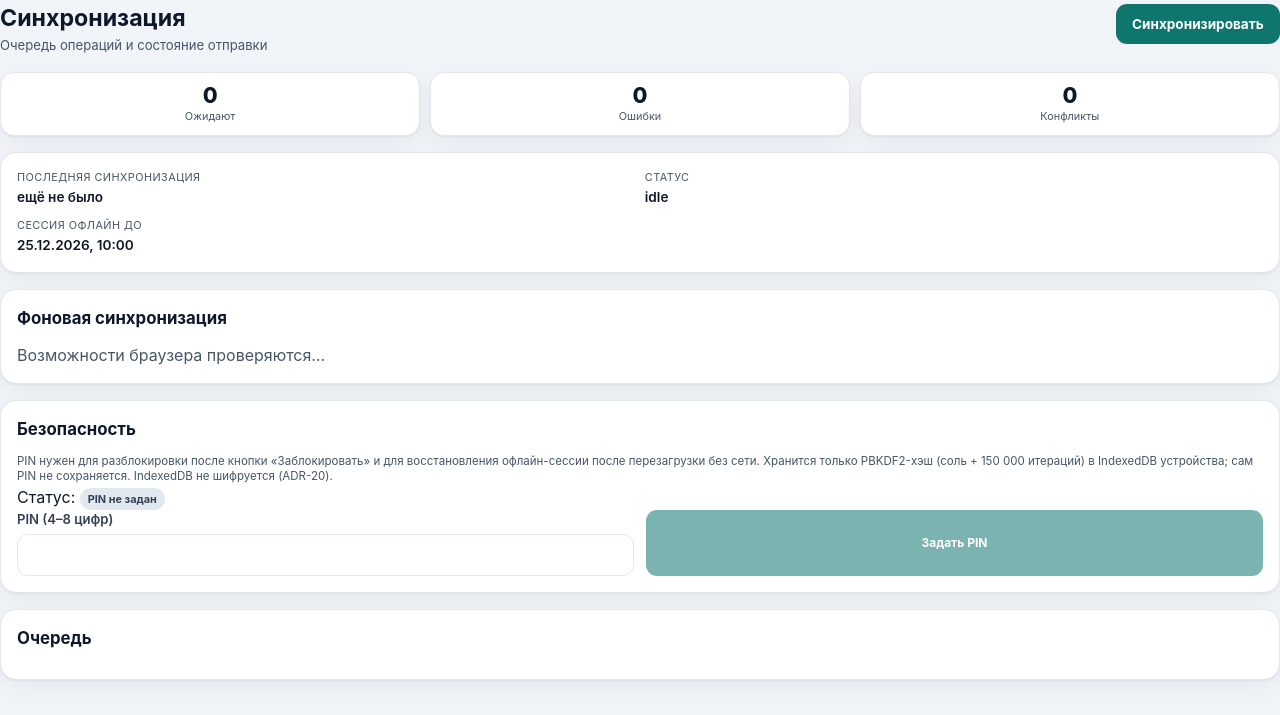
SyncScreen security card (AUTH-03) › sets and removes the local PIN without storing it in clear text
expect the heading "Безопасность" is shown: met, box top-left (17, 419), bottom-right (136, 439)
expect the text "PIN не задан" is shown: met, box top-left (80, 488), bottom-right (165, 510)
Type "2468" into the password field named "PIN для разблокировки" at (326, 555), box top-left (17, 534), bottom-right (634, 576)
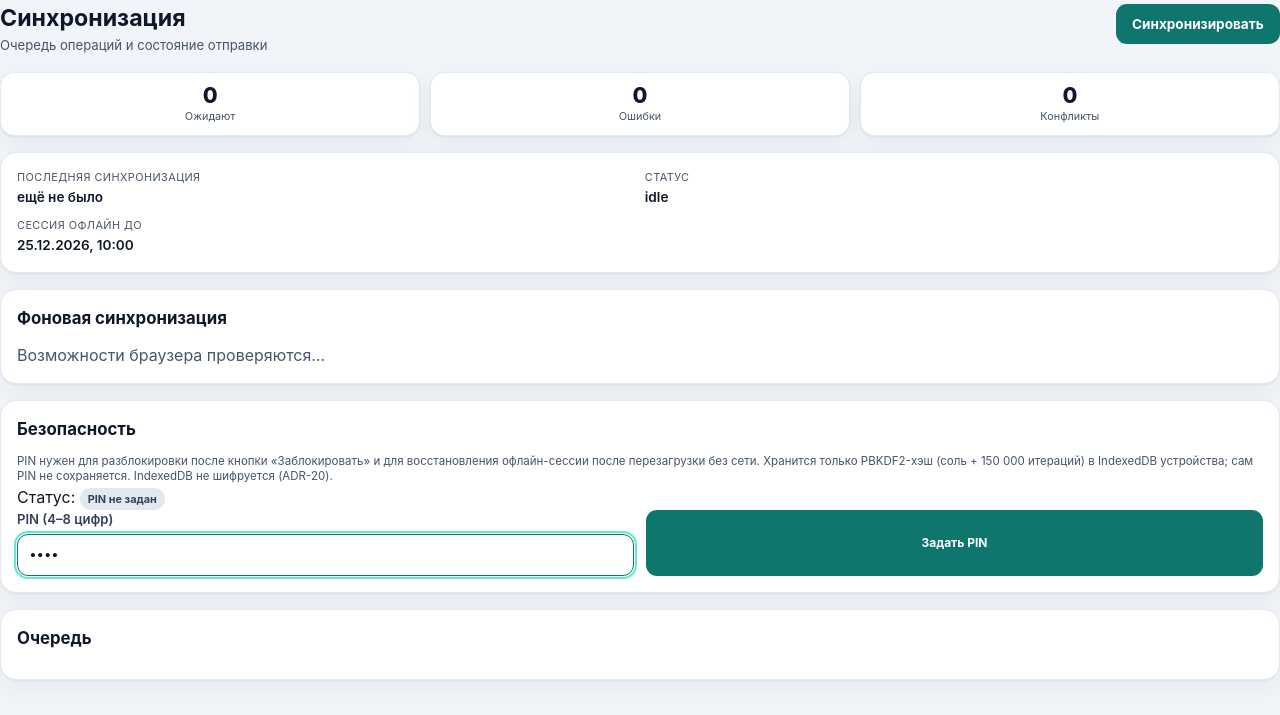
Click the button "Задать PIN" at (954, 543), box top-left (646, 510), bottom-right (1263, 576)
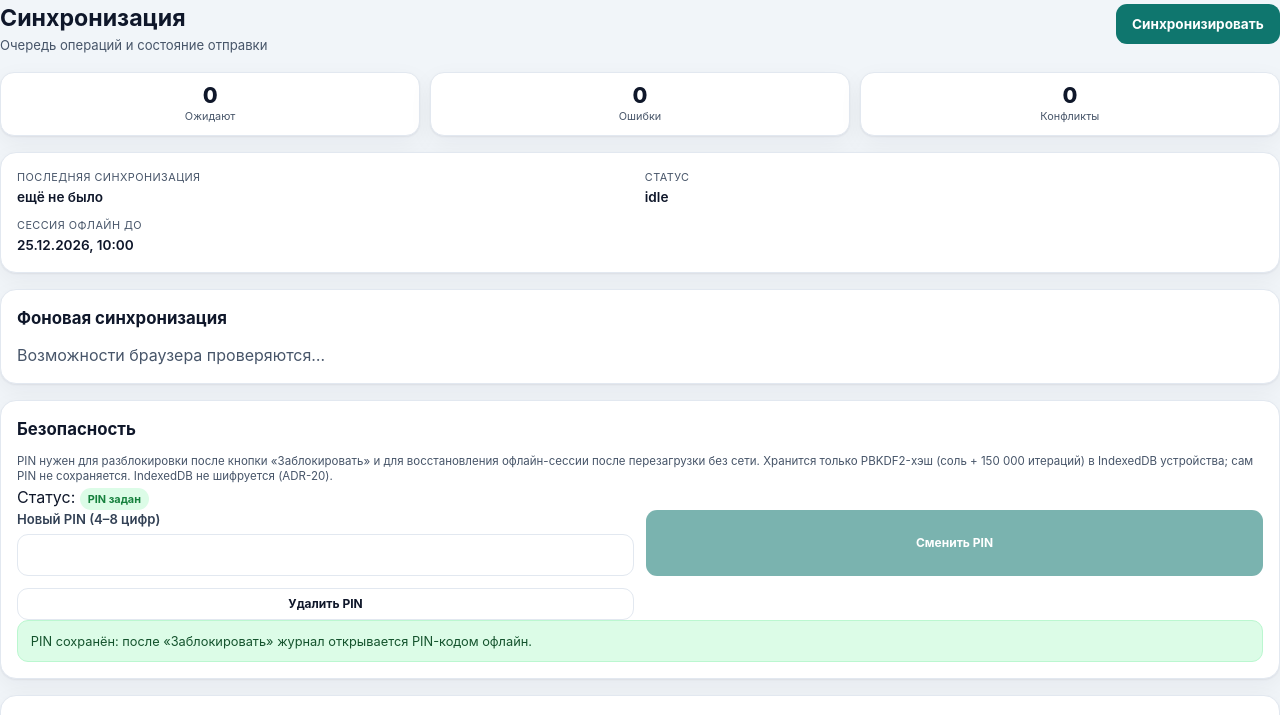
expect the text "PIN сохранён: после «Заблокировать» журнал открывается PIN-кодом офлайн." is shown: met, box top-left (17, 620), bottom-right (1263, 662)
expect the text "PIN задан" is shown: met, box top-left (80, 488), bottom-right (149, 510)
Click the button "Удалить PIN" at (326, 604), box top-left (17, 588), bottom-right (634, 620)
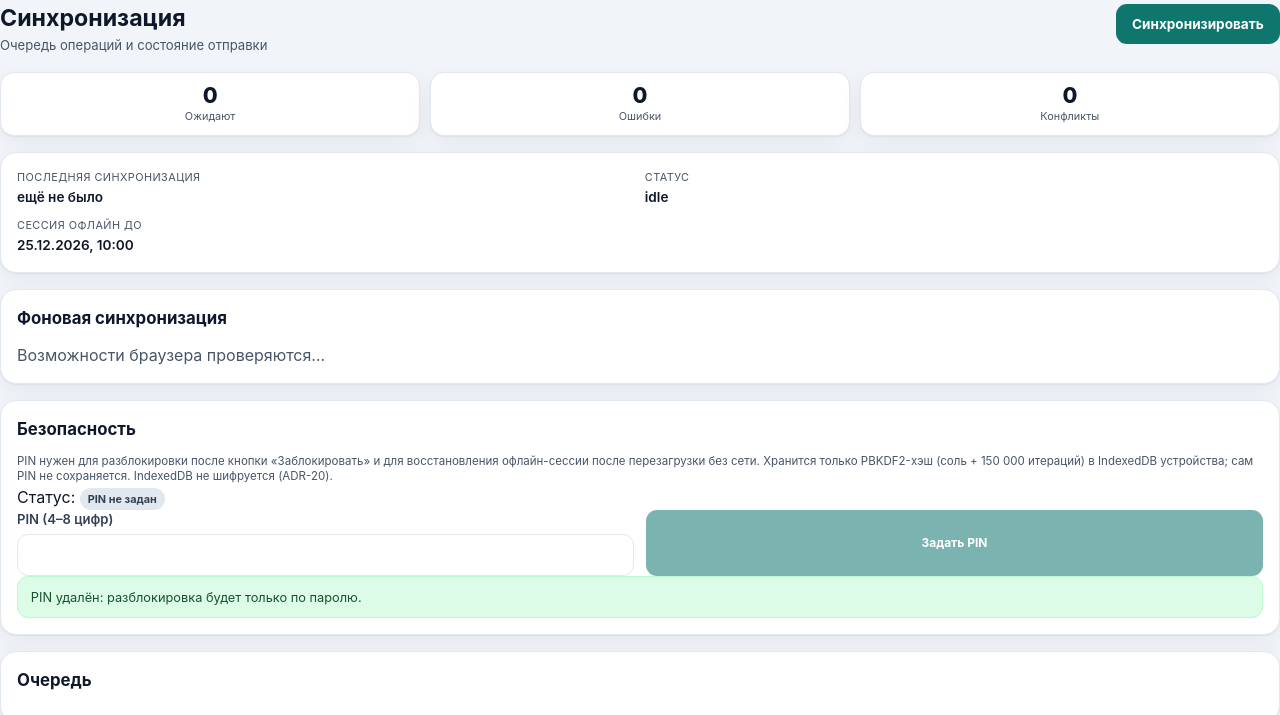
expect the text "PIN удалён: разблокировка будет только по паролю." is shown: met, box top-left (17, 576), bottom-right (1263, 618)
expect the text "PIN не задан" is shown: met, box top-left (80, 488), bottom-right (165, 510)
